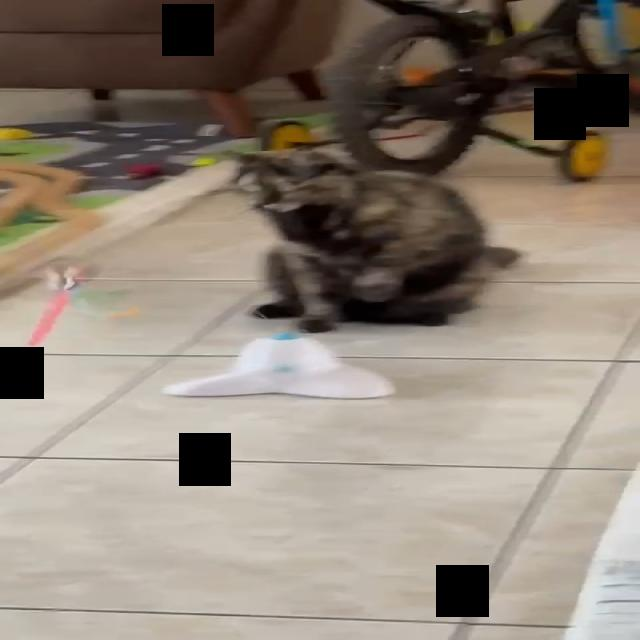authorized: (207, 142, 522, 332)
